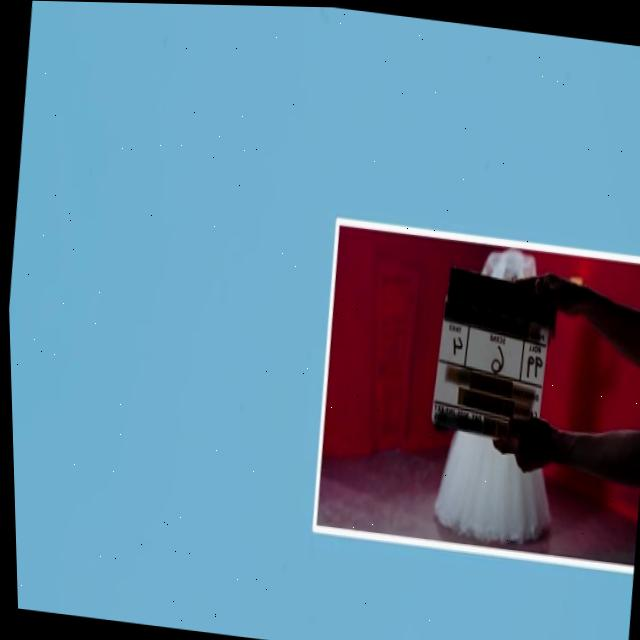Clapperboard: (424, 265, 564, 449)
